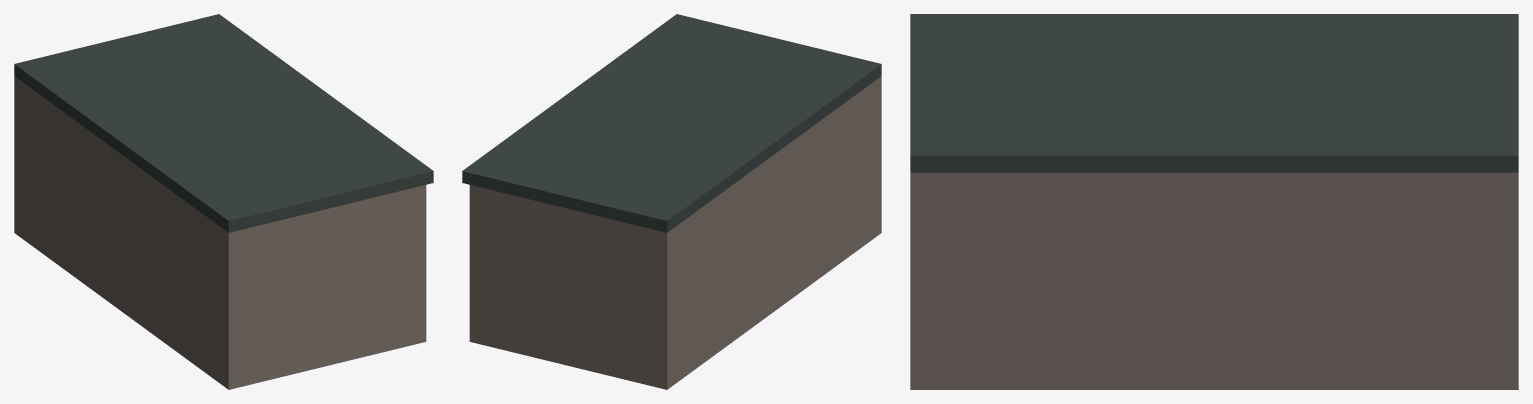
Rendered from SM_counter_04.fbx.
The picture shows the model from 3 angles, left to right: view 1: azimuth 30°, elevation 25°; view 2: azimuth 150°, elevation 25°; view 3: azimuth 270°, elevation 25°; orthographic projection. The views are drawn at different scales.
Parts seen in each view (by area): view 1: counter_04; view 2: counter_04; view 3: counter_04.
Part boxes in pixels (x1=…): counter_04: x1=14, y1=14, x2=433, y2=389; counter_04: x1=462, y1=14, x2=881, y2=389; counter_04: x1=910, y1=14, x2=1518, y2=389.
Size of the model in its own units: 156 by 123 by 283.
